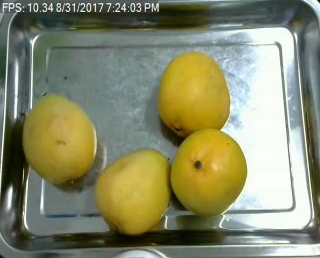Mango: (170, 127, 248, 216), (94, 146, 172, 235), (156, 50, 233, 140), (24, 93, 96, 183)
